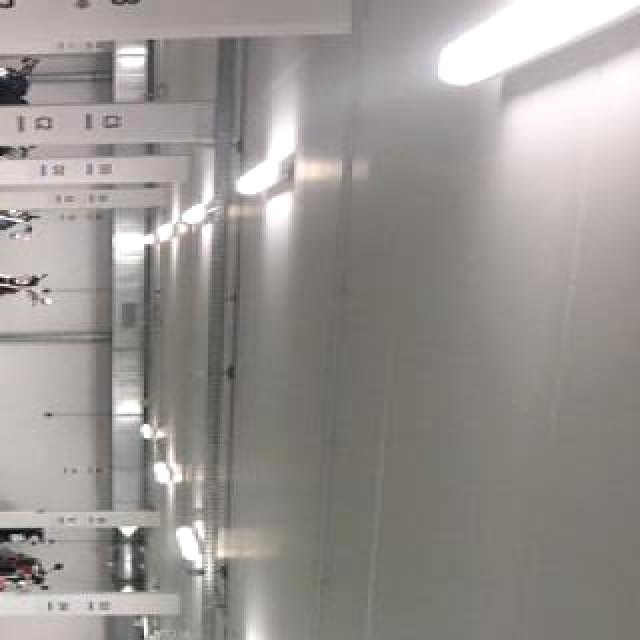fluorescent tube: (402, 0, 640, 116), (158, 504, 220, 571), (216, 149, 296, 200), (171, 187, 225, 238), (147, 207, 193, 253), (144, 455, 187, 500), (127, 408, 164, 448), (216, 628, 278, 640), (133, 231, 155, 251)
